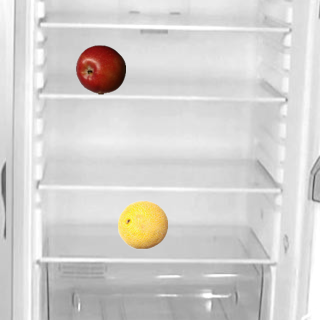Apple Braeburn: (75, 44, 125, 94)
Cantaloupe 1: (117, 199, 167, 249)
